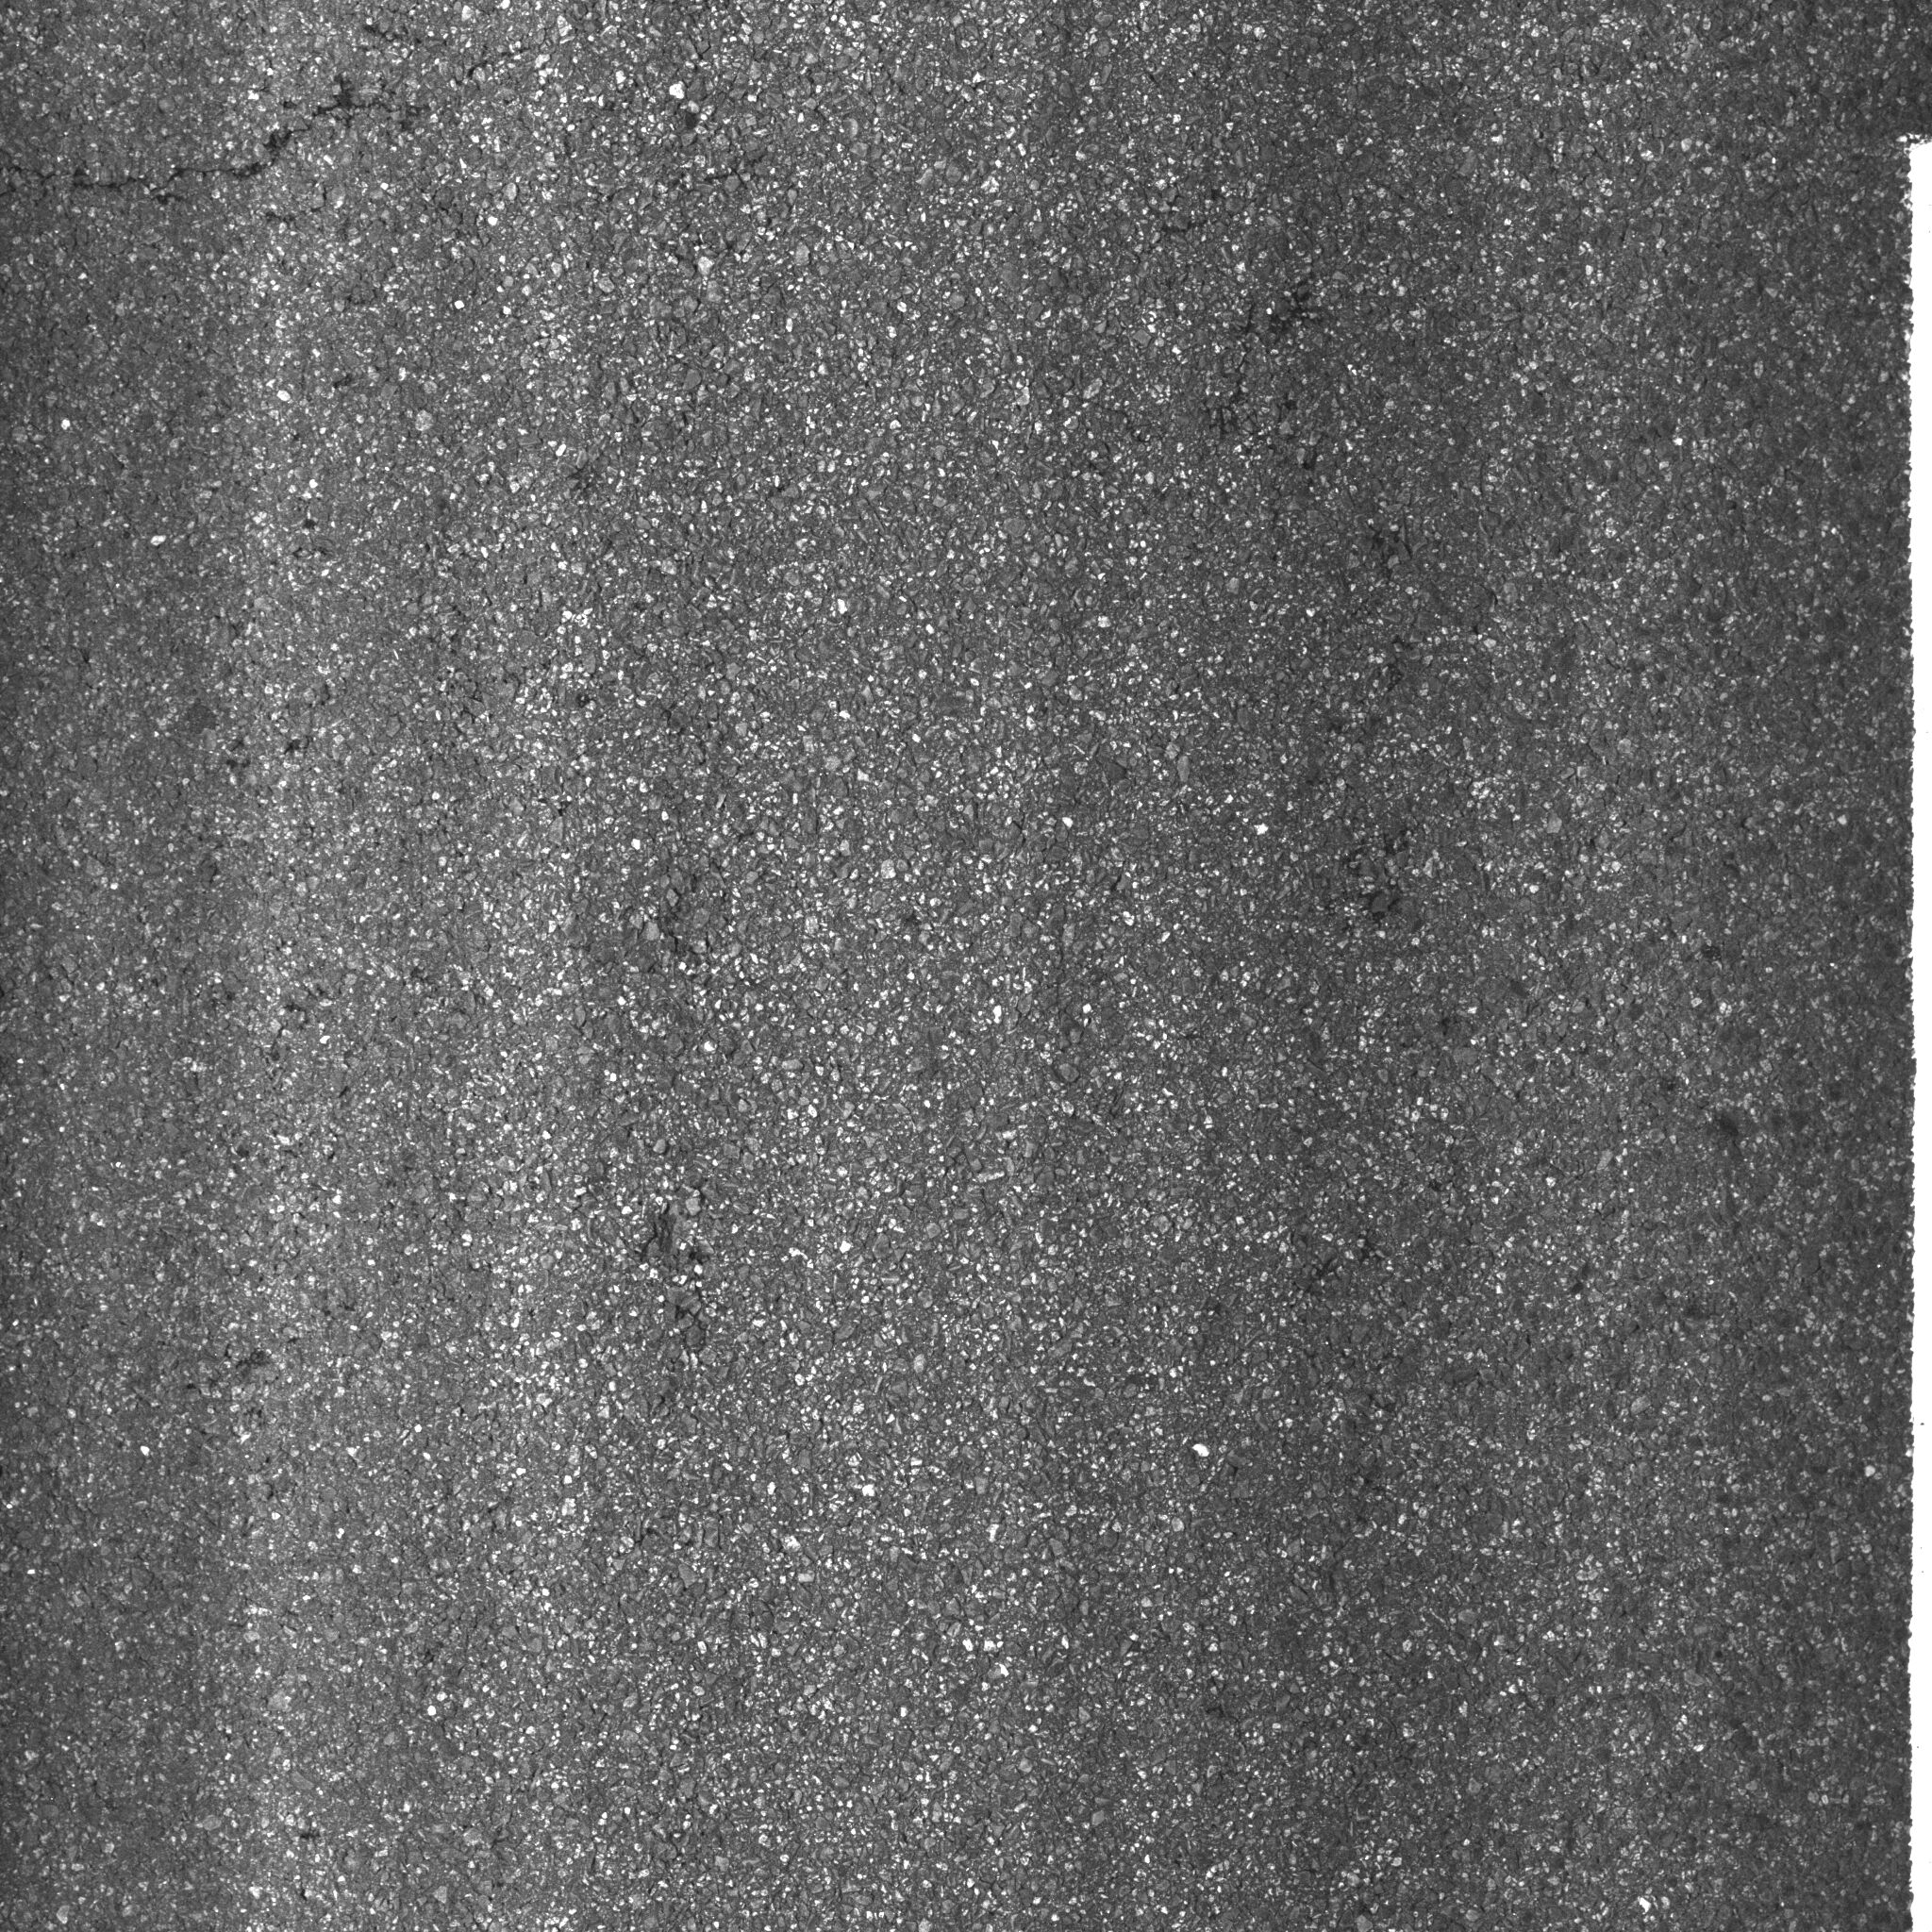transeverse: (58, 35, 540, 212)
